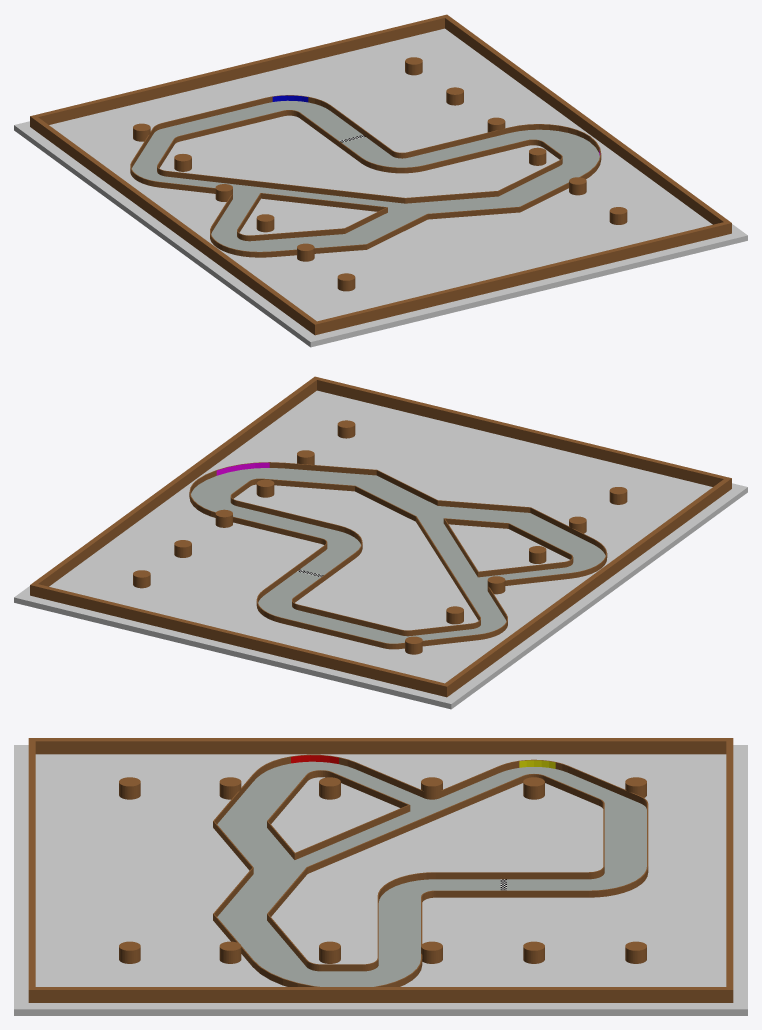
File: walker_racecourse_gray.dae
3 views of the same model, one above another, from view 1: azimuth 30°, elevation 25°; view 2: azimuth 150°, elevation 25°; view 3: azimuth 270°, elevation 25° (orthographic). The views are drawn at different scales.
Visible parts, largest first — view 1: walker_track; view 2: walker_track; view 3: walker_track.
Boxes of the visible parts, <box> form: walker_track: <box>14,14,747,347</box>; walker_track: <box>14,376,747,709</box>; walker_track: <box>14,738,747,1015</box>.
Bounding box in the file's own units: 30.81 × 36.18 × 1.07.
